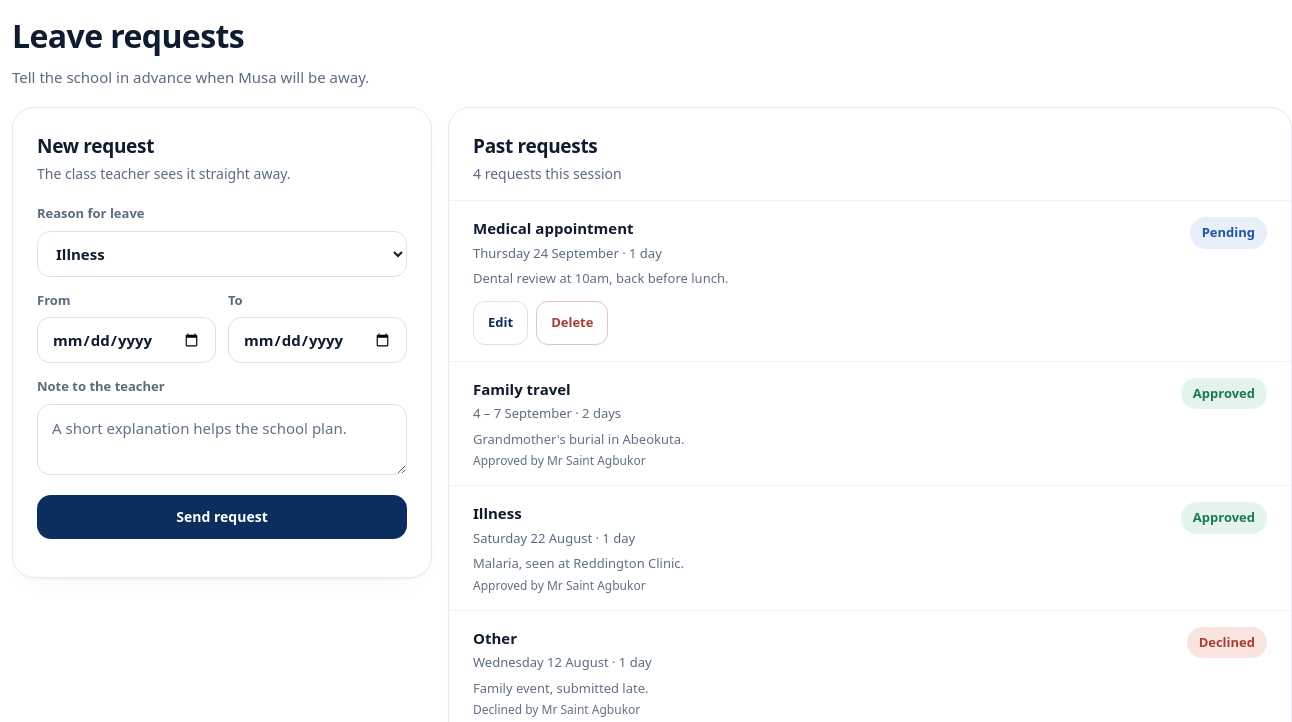
Test: Leave requests (fixtures) › edits and withdraws a pending request
Expected: the text "4 requests this session" is shown, [473,164,622,183]
Click the button "Edit": (501, 322) [473,300,528,344]
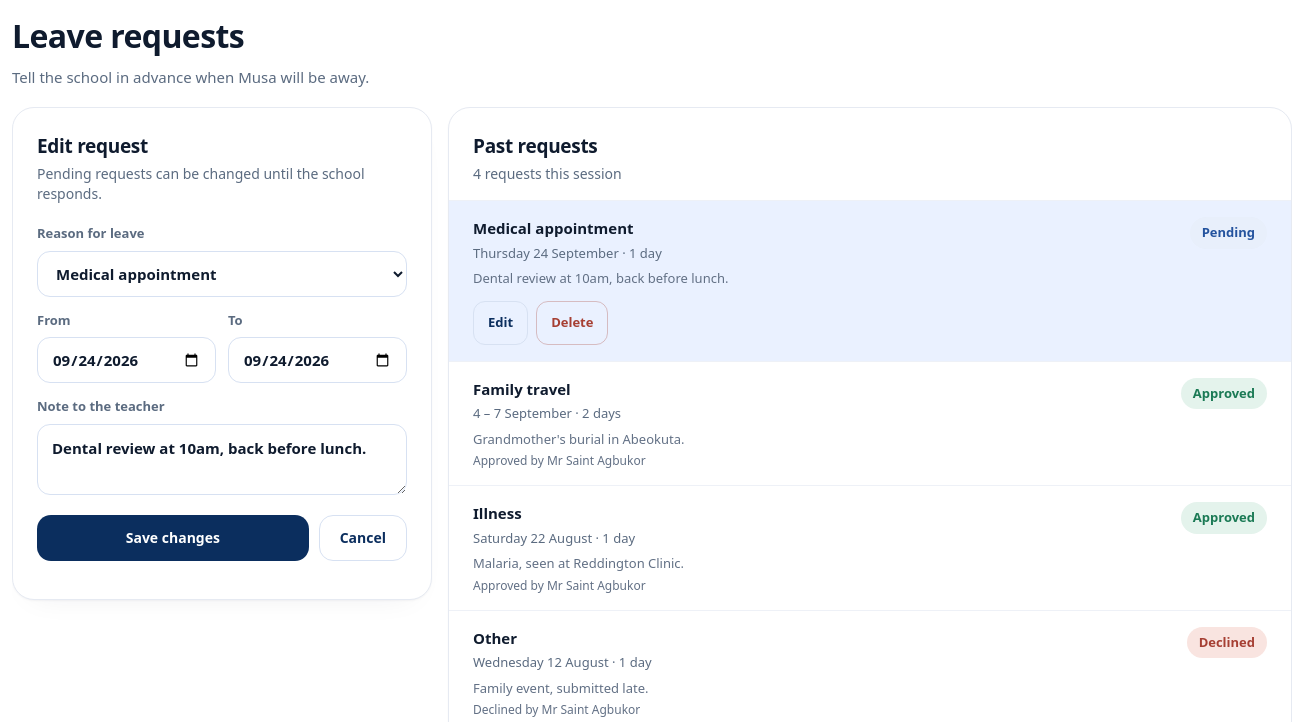
Expected: the heading "Edit request" is shown, [37,132,148,158]
Select "Illness" in the dropdown labelled "Reason for leave": (222, 274) [37,250,407,296]
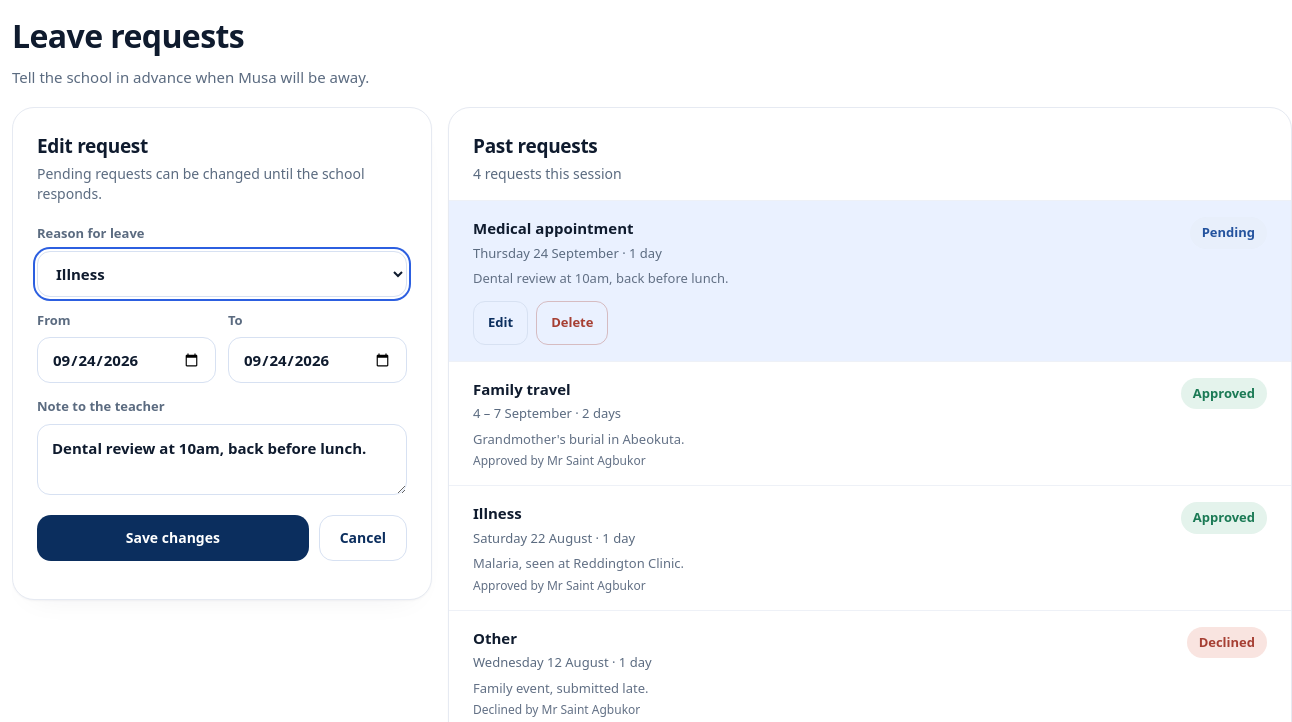
Click the button "Save changes": (173, 538) [37,514,309,560]
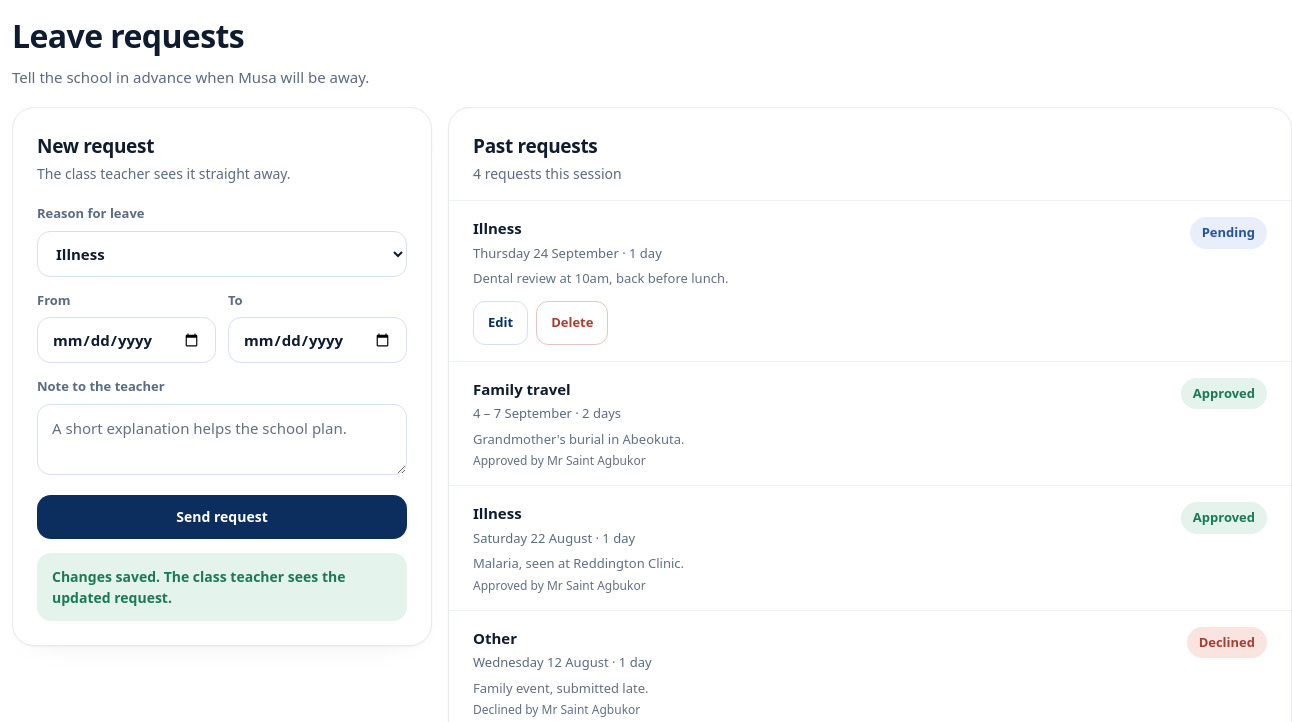
Expected: the text "Changes saved. The class teacher sees the updated request." is shown, [37,552,407,620]
Click the button "Delete": (572, 322) [536,300,608,344]
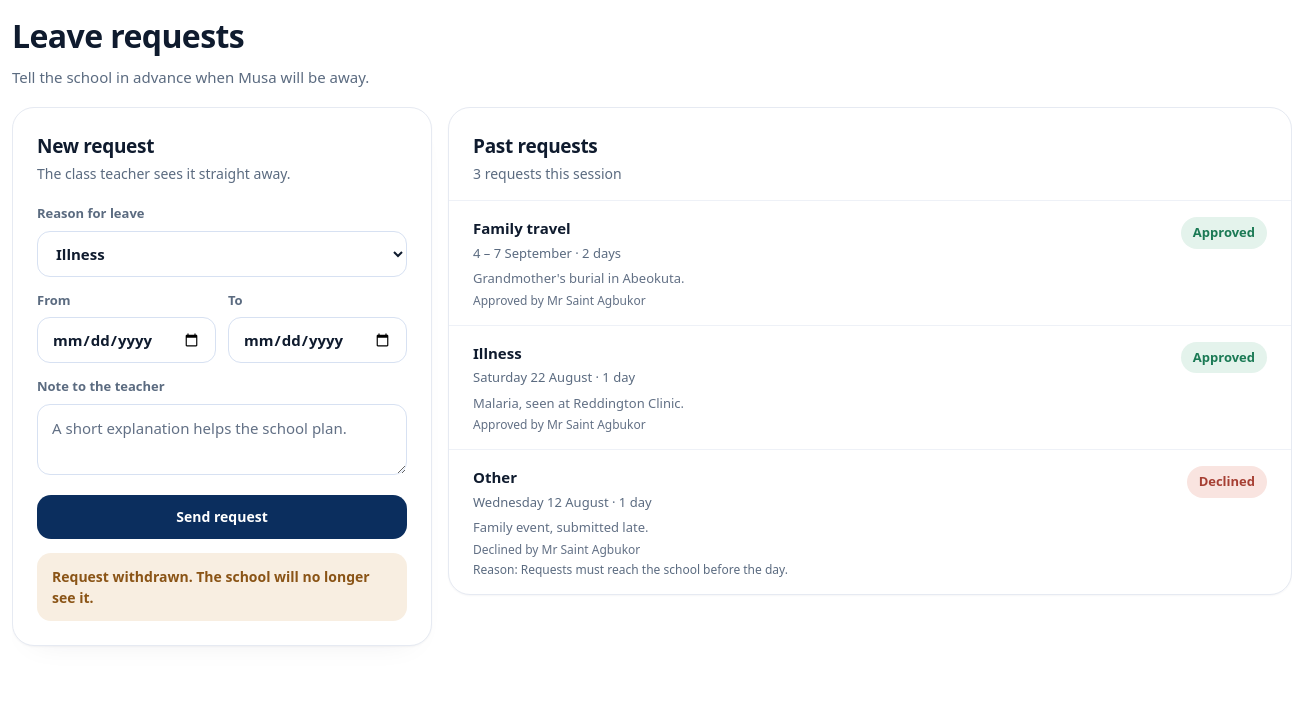
Expected: the text "Request withdrawn. The school will no longer see it." is shown, [37,552,407,620]
Expected: the text "3 requests this session" is shown, [473,164,622,183]
